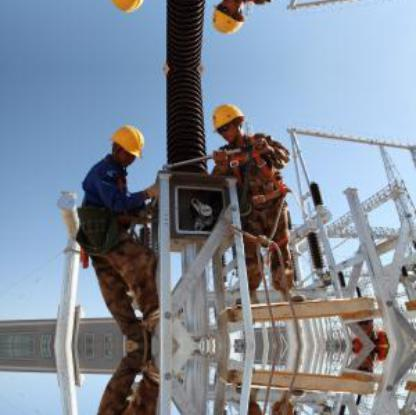helmet: (105, 120, 148, 164), (208, 98, 253, 139)
